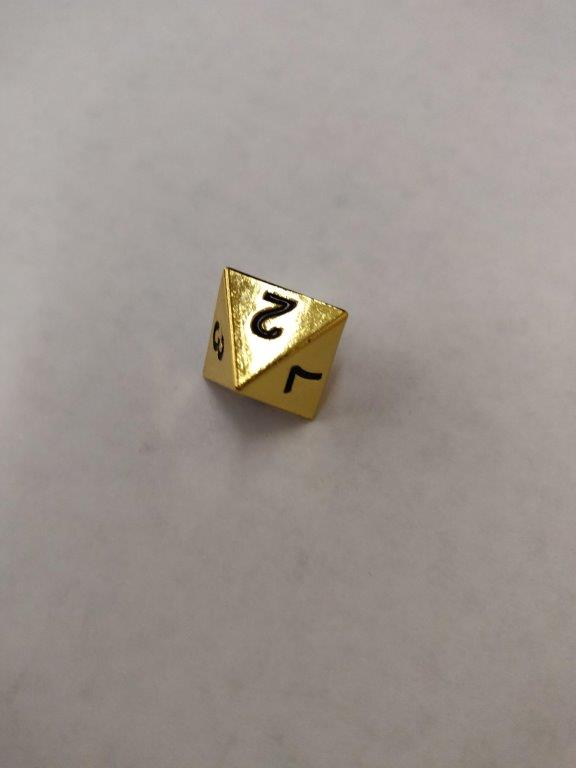d8-2: (195, 263, 349, 422)
